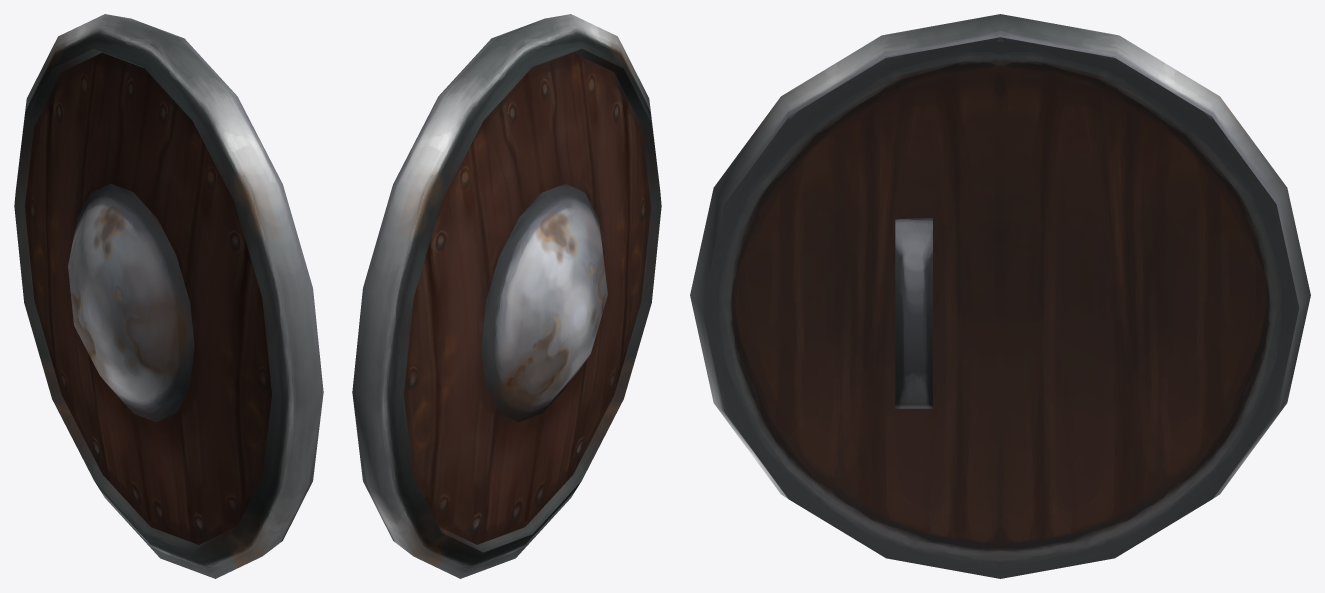
File: Shield00_mesh.FBX
3 views of the same model, side by side, from view 1: azimuth 30°, elevation 25°; view 2: azimuth 150°, elevation 25°; view 3: azimuth 270°, elevation 25° (orthographic). The views are drawn at different scales.
Parts seen in each view (by area): view 1: Shield00_mesh; view 2: Shield00_mesh; view 3: Shield00_mesh.
Part boxes in pixels (<box>): Shield00_mesh: <box>14,14,323,578</box>; Shield00_mesh: <box>352,14,661,578</box>; Shield00_mesh: <box>690,14,1310,578</box>.
Size of the model in its own units: 9.13 by 34.68 by 34.68.
